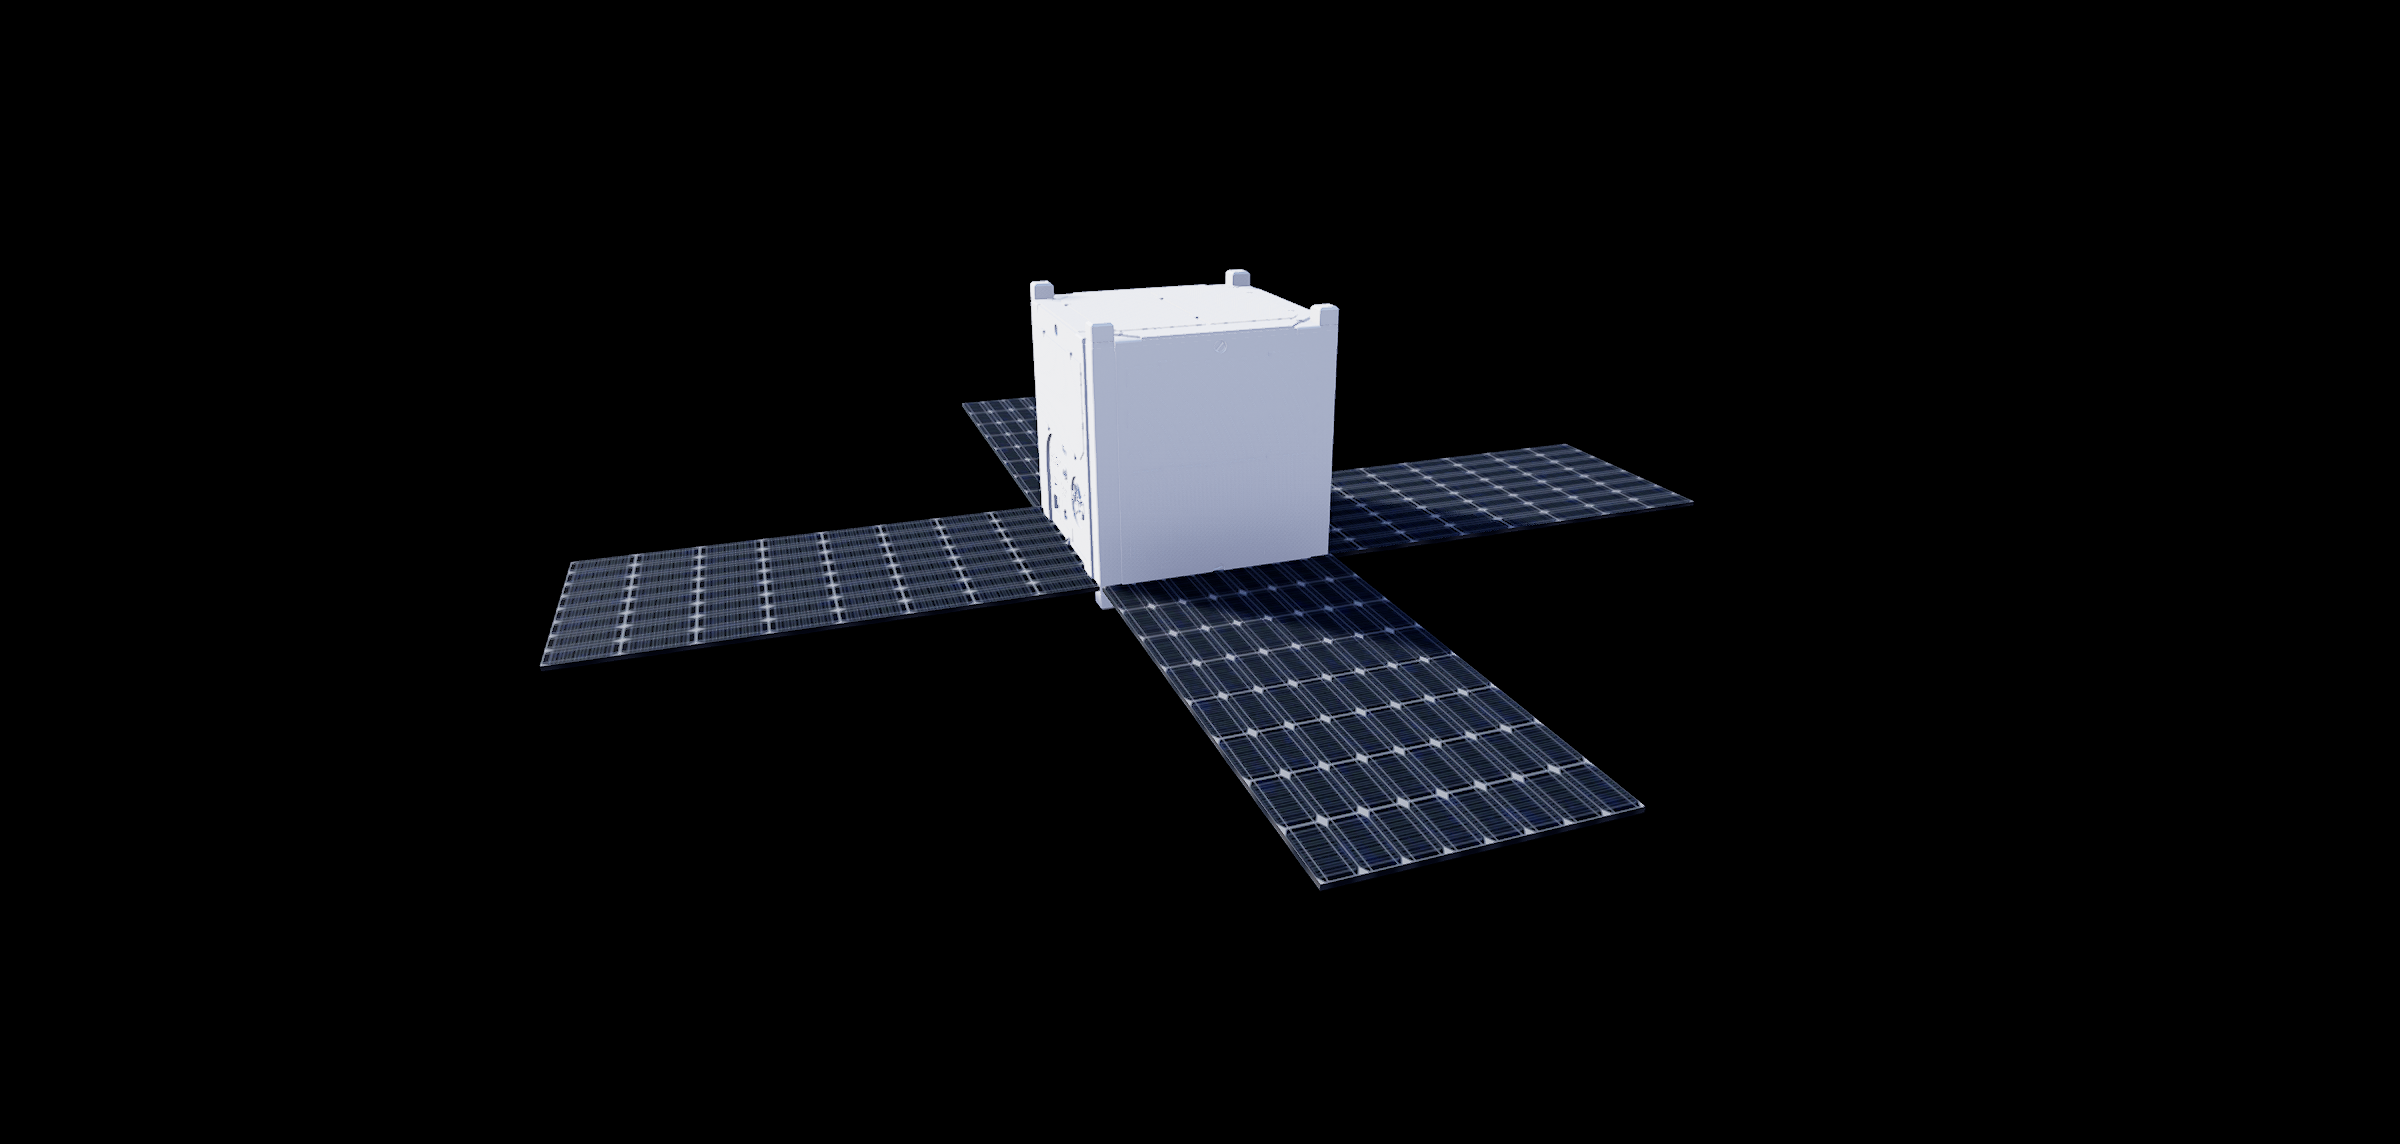satellite: (527, 230, 1763, 919)
